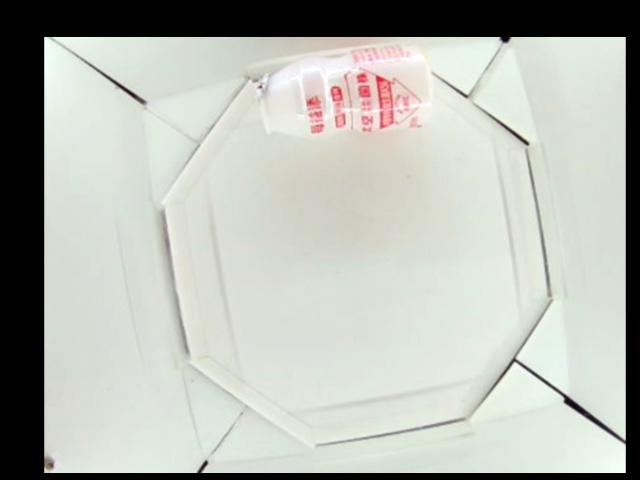Bottle: (255, 39, 431, 139)
